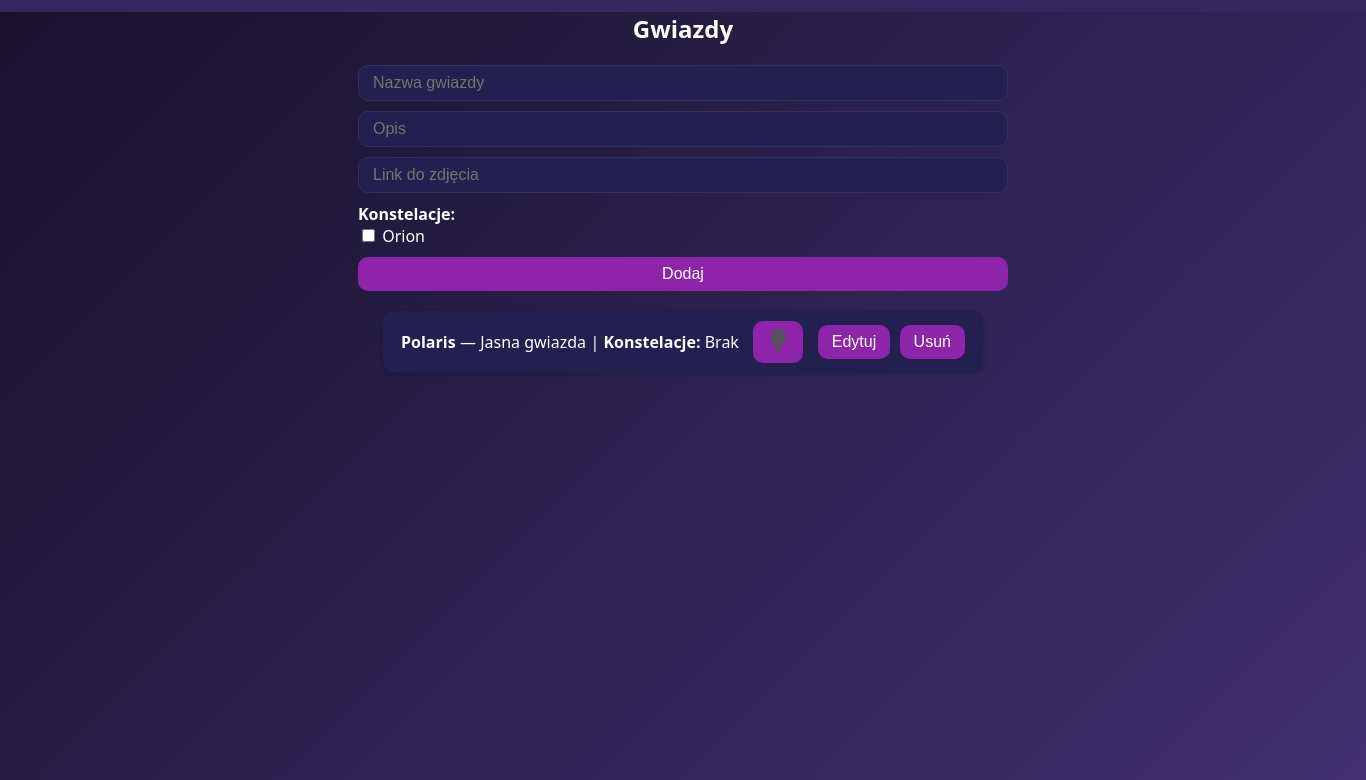
Test: Stars component › po kliknięciu Edytuj pojawia się formularz edycji
Click the button "Edytuj": click(854, 342) [818,325,890,359]
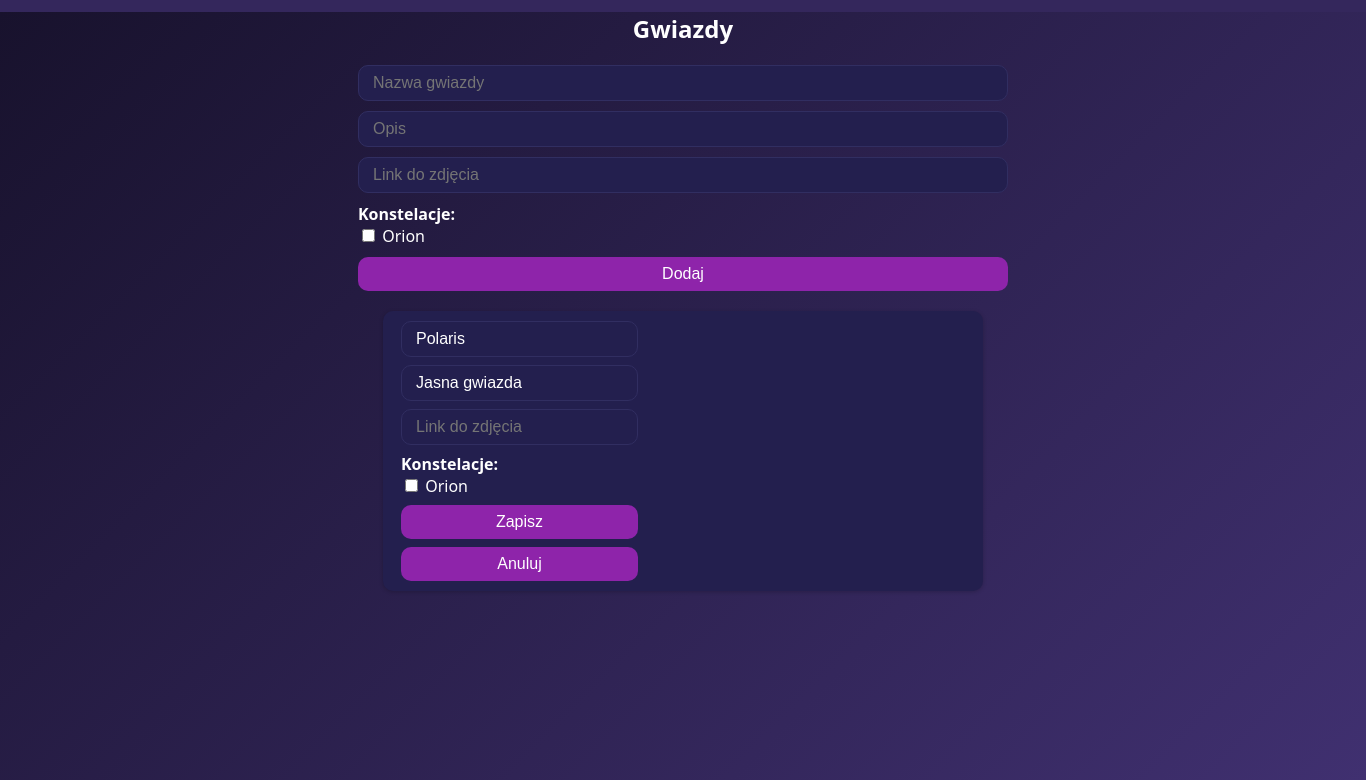
expect the 1st field showing "Polaris" is shown: met, box [401,321,638,357]
